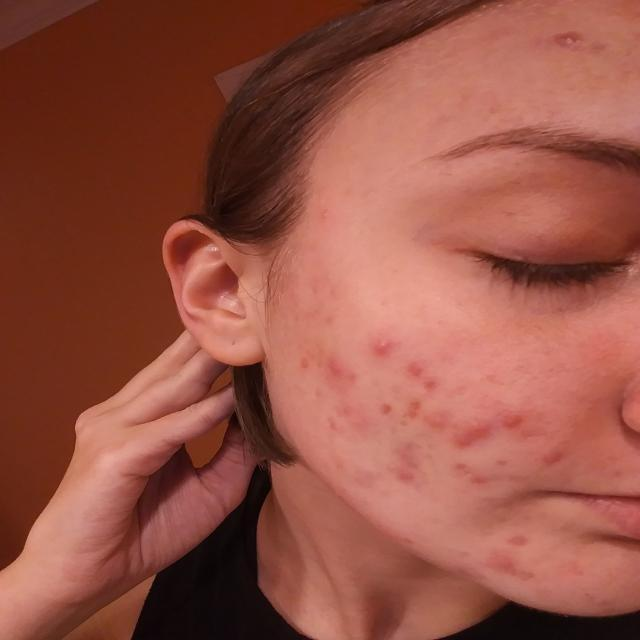Acne: (371, 366, 492, 459), (436, 448, 597, 492), (481, 523, 538, 591), (544, 22, 590, 80), (296, 389, 348, 435), (486, 406, 534, 446), (326, 451, 374, 488), (296, 356, 356, 382), (302, 198, 339, 235), (388, 462, 417, 501), (366, 331, 398, 364)
